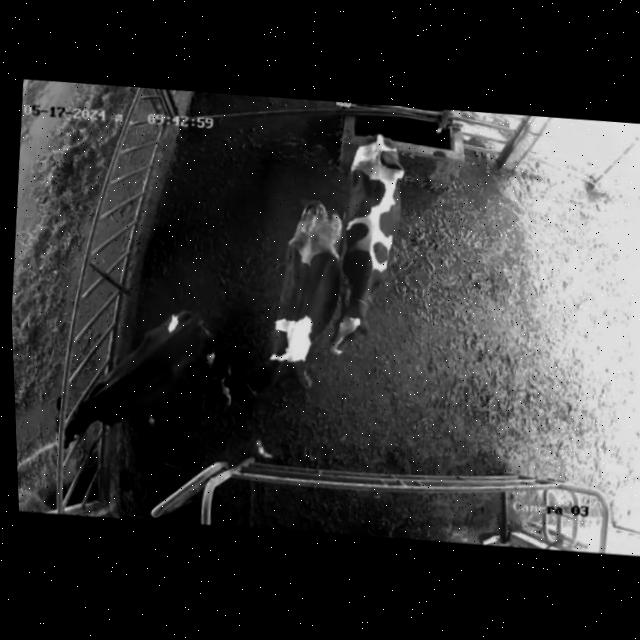eat: (15, 385, 136, 464)
stand: (221, 182, 357, 436), (315, 130, 421, 371)
